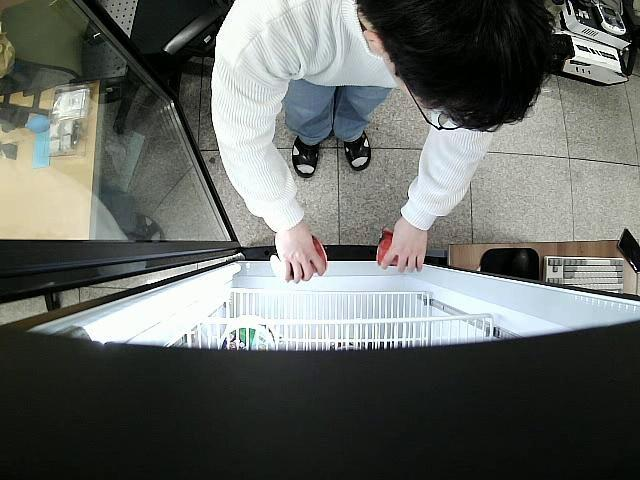02_shinRamen_S: (268, 238, 329, 282), (375, 227, 422, 270)
